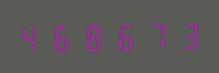eight: (78, 20, 107, 53)
four: (17, 21, 46, 54)
seven: (138, 19, 167, 51)
six: (47, 21, 76, 53), (108, 20, 137, 52)
three: (168, 18, 197, 51)
